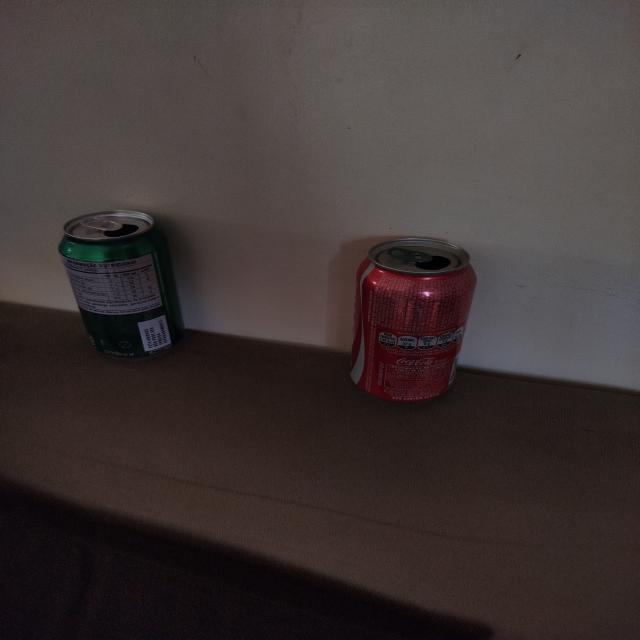Coca Cola: (349, 238, 478, 403)
Guarana: (58, 209, 187, 359)
